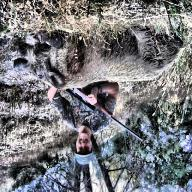boar: (11, 9, 185, 97)
